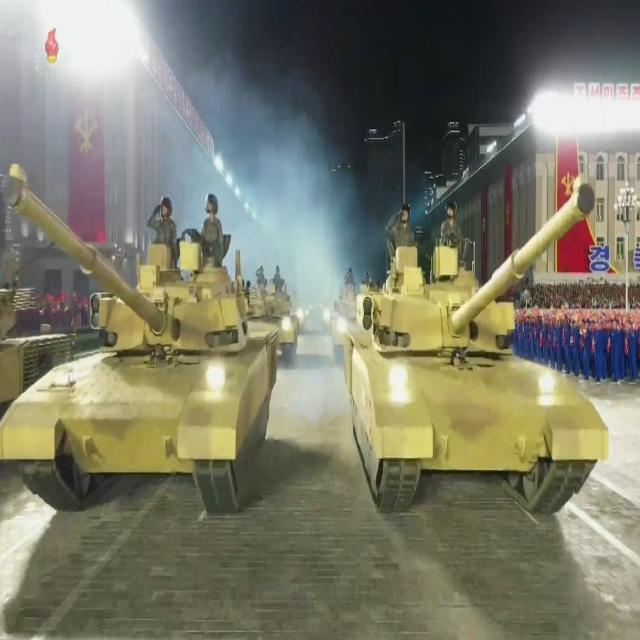north tank: (331, 120, 626, 551), (0, 131, 287, 542), (226, 241, 319, 376)
